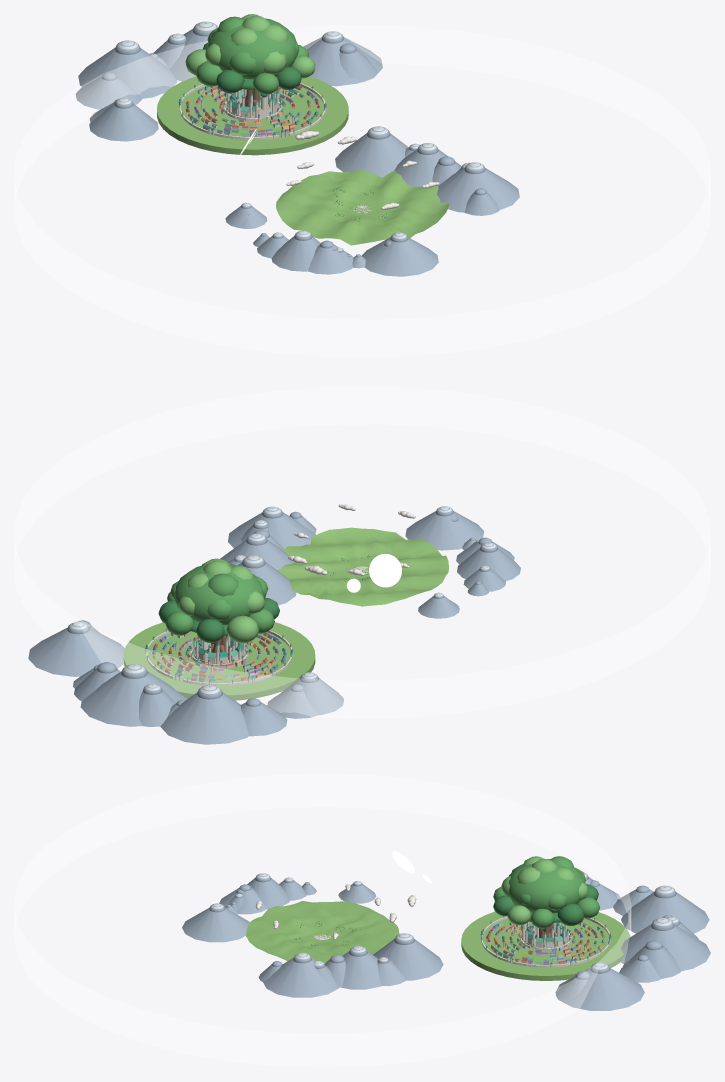
File: interlude_arrival.glb
3 renders of one model, top to bottom at view 1: azimuth 30°, elevation 25°; view 2: azimuth 150°, elevation 25°; view 3: azimuth 270°, elevation 25°, orthographic. The views are drawn at different scales.
Parts seen in each view (by area): view 1: far_haze_fine, far_mount_far, land_grass, far_grass_far, far_eld_leaf_far, far_erk_wall_far, far_eld_leaf_l_far, far_mount_l_far, far_eld_leaf_d_far, sky_white_far, far_erk_wall_d_far, far_erk_roof_far; view 2: far_haze_fine, far_mount_far, land_grass, far_grass_far, far_eld_leaf_far, far_erk_wall_far, far_eld_leaf_l_far, far_mount_l_far, far_eld_leaf_d_far, sky_moon_fine, sky_white_far; view 3: far_haze_fine, far_mount_far, land_grass, far_grass_far, far_eld_leaf_far, far_erk_wall_far, far_eld_leaf_l_far, far_eld_leaf_d_far, far_mount_l_far, far_erk_wall_d_far.
Boxes of the visible parts, box(x1,y1,x2,y2) form: far_haze_fine: box(14, 25, 710, 357); far_mount_far: box(75, 22, 519, 276); land_grass: box(276, 169, 448, 245); far_grass_far: box(157, 76, 348, 155); far_eld_leaf_far: box(196, 16, 308, 94); far_erk_wall_far: box(179, 83, 326, 139); far_eld_leaf_l_far: box(185, 14, 315, 78); far_mount_l_far: box(116, 21, 483, 250); far_eld_leaf_d_far: box(203, 42, 301, 93); sky_white_far: box(286, 131, 439, 209); far_erk_wall_d_far: box(186, 85, 318, 136); far_erk_roof_far: box(178, 85, 326, 134); far_haze_fine: box(14, 386, 710, 718); far_mount_far: box(28, 506, 520, 744); land_grass: box(277, 527, 448, 606); far_grass_far: box(123, 622, 315, 700); far_eld_leaf_far: box(165, 564, 274, 635); far_erk_wall_far: box(145, 630, 293, 685); far_eld_leaf_l_far: box(178, 558, 265, 643); far_mount_l_far: box(69, 506, 495, 693); far_eld_leaf_d_far: box(158, 598, 279, 642); sky_moon_fine: box(347, 554, 401, 592); sky_white_far: box(288, 504, 415, 576); far_haze_fine: box(14, 773, 631, 1067); far_mount_far: box(182, 873, 710, 1010); land_grass: box(246, 901, 399, 963); far_grass_far: box(461, 911, 630, 980); far_eld_leaf_far: box(493, 856, 599, 928); far_erk_wall_far: box(480, 916, 611, 967); far_eld_leaf_l_far: box(501, 856, 588, 925); far_eld_leaf_d_far: box(493, 884, 598, 925); far_mount_l_far: box(211, 872, 678, 969); far_erk_wall_d_far: box(486, 919, 604, 964).
Size of the model in its own units: 2900 by 446 by 3274.
